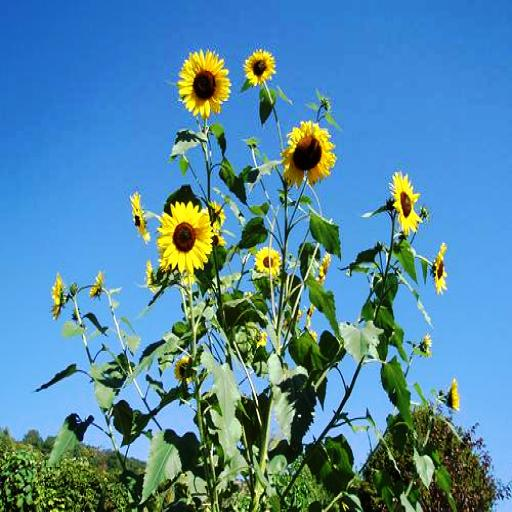sunflower: (157, 198, 215, 276), (178, 48, 230, 116), (284, 122, 334, 182), (390, 172, 425, 236), (240, 45, 274, 81)
